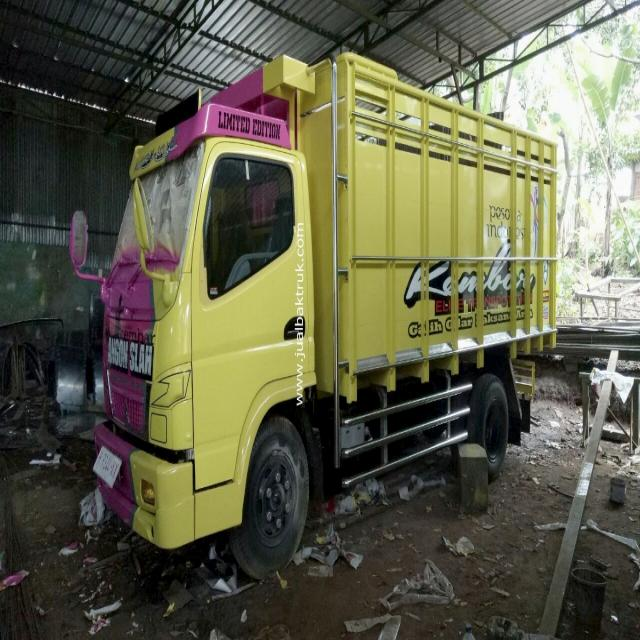truck: (71, 45, 557, 578)
